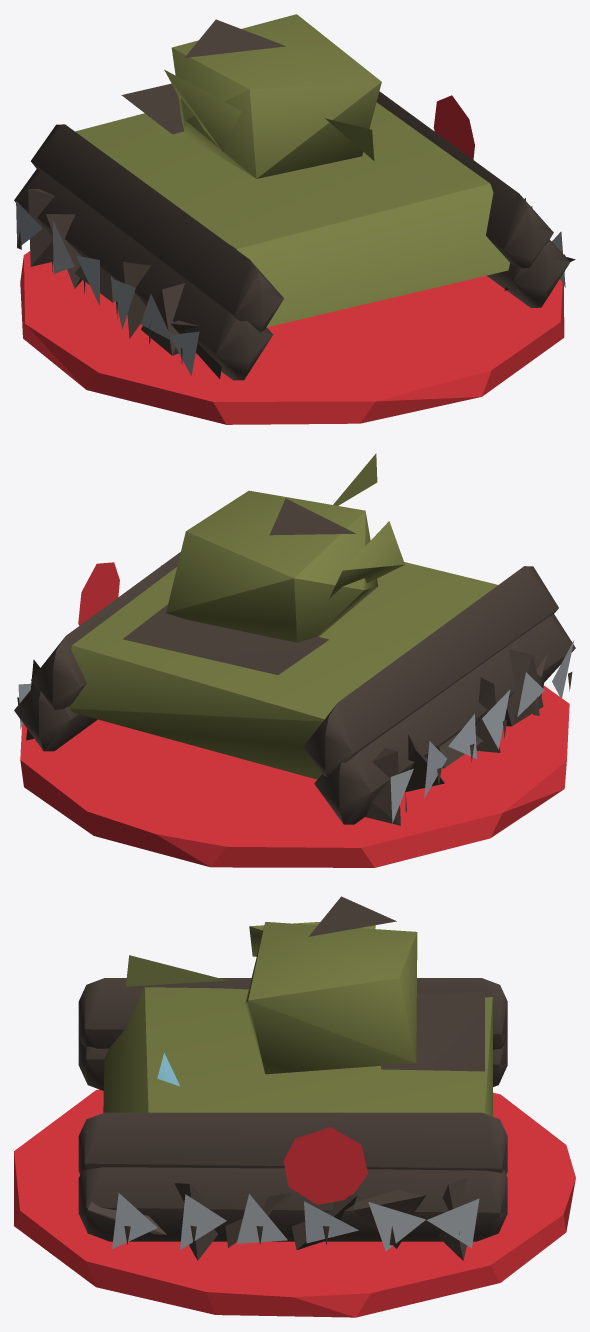
The model's file is japan_infantry_lod1.glb.
3 views of the same model, one above another, from view 1: azimuth 30°, elevation 25°; view 2: azimuth 150°, elevation 25°; view 3: azimuth 270°, elevation 25° (orthographic). The views are drawn at different scales.
Visible parts, largest first — view 1: body_hull, base_pedestal; view 2: body_hull, base_pedestal; view 3: body_hull, base_pedestal.
Boxes of the visible parts, bbox=[...] form: body_hull: bbox=[14, 14, 575, 380]; base_pedestal: bbox=[20, 251, 564, 424]; body_hull: bbox=[14, 453, 575, 825]; base_pedestal: bbox=[20, 685, 569, 867]; body_hull: bbox=[78, 896, 507, 1260]; base_pedestal: bbox=[14, 1089, 575, 1317].
Bounding box in the file's own units: 0.7751 × 0.4039 × 0.7751.
